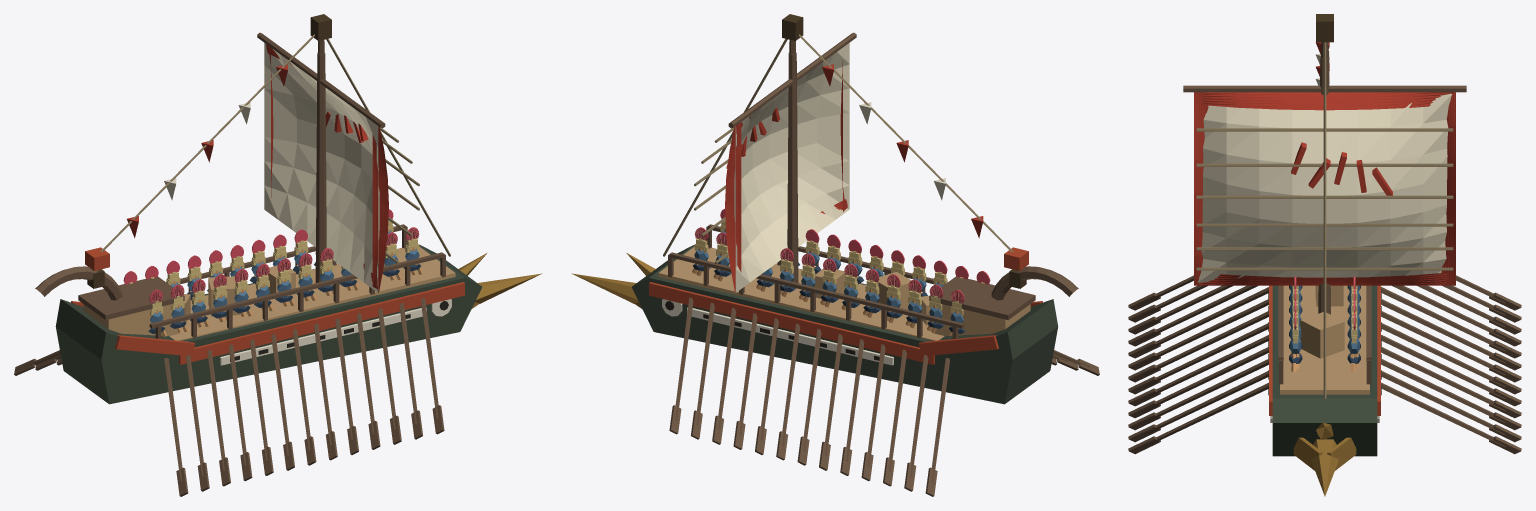
Rendered from fisherBoat.glb.
The picture shows the model from 3 angles, left to right: view 1: azimuth 30°, elevation 25°; view 2: azimuth 150°, elevation 25°; view 3: azimuth 270°, elevation 25°; orthographic projection. The views are drawn at different scales.
Parts seen in each view (by area): view 1: sail, hull-low, n231, n27, n283, n295, mast, n253, n31, n281, n29, n59 (+8 smaller); view 2: sail, hull-low, n231, n3, n283, mast, n293, n233, n7, n281, n59, n5 (+15 smaller); view 3: sail, hull-low, n231, n297, n299, n289, n293, n295, n277, n325, n311, n301 (+35 smaller).
Boxes of the visible parts, x1=… form: sail: x1=264, y1=43, x2=379, y2=292; hull-low: x1=55, y1=244, x2=481, y2=404; n231: x1=169, y1=246, x2=455, y2=340; n27: x1=179, y1=282, x2=464, y2=364; n283: x1=78, y1=276, x2=184, y2=319; n295: x1=372, y1=127, x2=388, y2=292; mast: x1=315, y1=53, x2=326, y2=282; n253: x1=149, y1=252, x2=444, y2=328; n31: x1=220, y1=308, x2=426, y2=365; n281: x1=83, y1=304, x2=179, y2=335; n29: x1=115, y1=335, x2=195, y2=356; n59: x1=35, y1=266, x2=122, y2=300; sail: x1=734, y1=43, x2=849, y2=292; hull-low: x1=632, y1=244, x2=1058, y2=404; n231: x1=658, y1=246, x2=944, y2=340; n3: x1=649, y1=282, x2=934, y2=364; n283: x1=929, y1=276, x2=1035, y2=319; mast: x1=787, y1=53, x2=798, y2=282; n293: x1=725, y1=122, x2=741, y2=291; n233: x1=669, y1=252, x2=964, y2=328; n7: x1=687, y1=307, x2=893, y2=365; n281: x1=935, y1=304, x2=1030, y2=335; n59: x1=991, y1=266, x2=1078, y2=300; n5: x1=918, y1=335, x2=998, y2=355; sail: x1=1198, y1=93, x2=1452, y2=282; hull-low: x1=1272, y1=285, x2=1377, y2=456; n231: x1=1280, y1=285, x2=1369, y2=394; n297: x1=1202, y1=92, x2=1450, y2=110; n299: x1=1195, y1=272, x2=1447, y2=285; n289: x1=1183, y1=85, x2=1466, y2=92; n293: x1=1441, y1=92, x2=1455, y2=285; n295: x1=1194, y1=92, x2=1208, y2=285; n277: x1=1300, y1=312, x2=1344, y2=358; n325: x1=1323, y1=42, x2=1326, y2=398; n311: x1=1196, y1=128, x2=1453, y2=131; n301: x1=1196, y1=267, x2=1453, y2=270.
Size of the model in its own units: 6.41 by 4.4 by 3.75.
